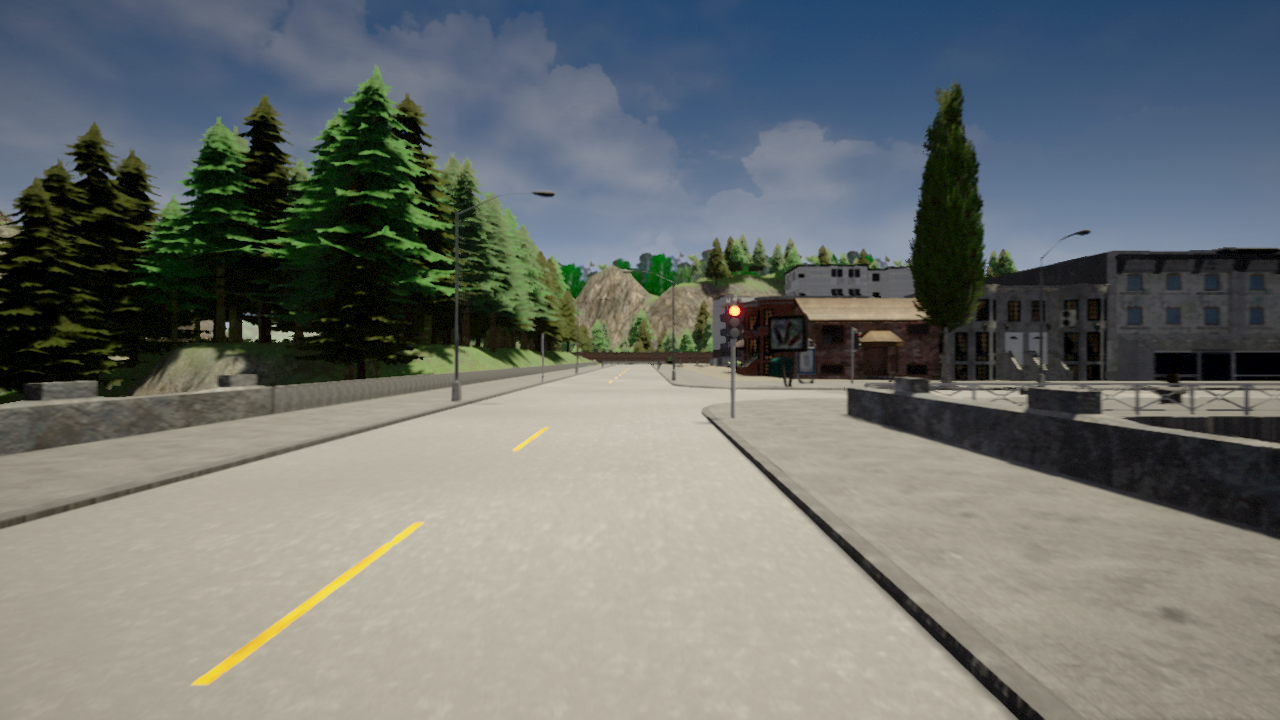red: (727, 303, 742, 339)
